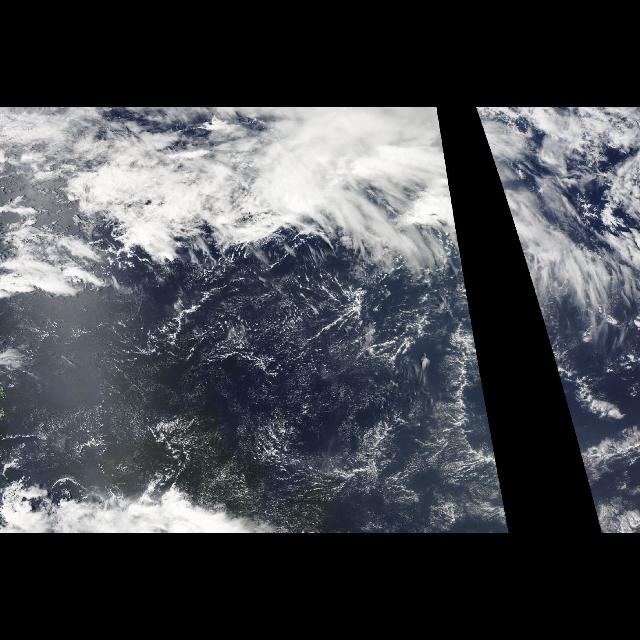Sugar: (59, 314, 468, 508)
